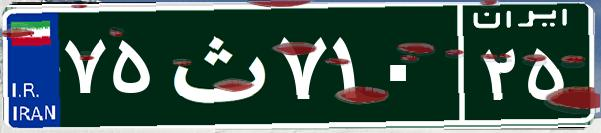0: (385, 28, 445, 110)
1: (330, 28, 385, 110)
2: (475, 38, 525, 113)
5: (110, 28, 158, 105), (525, 38, 570, 115)
7: (273, 28, 330, 110), (57, 26, 110, 107)
ث: (158, 15, 273, 115)
